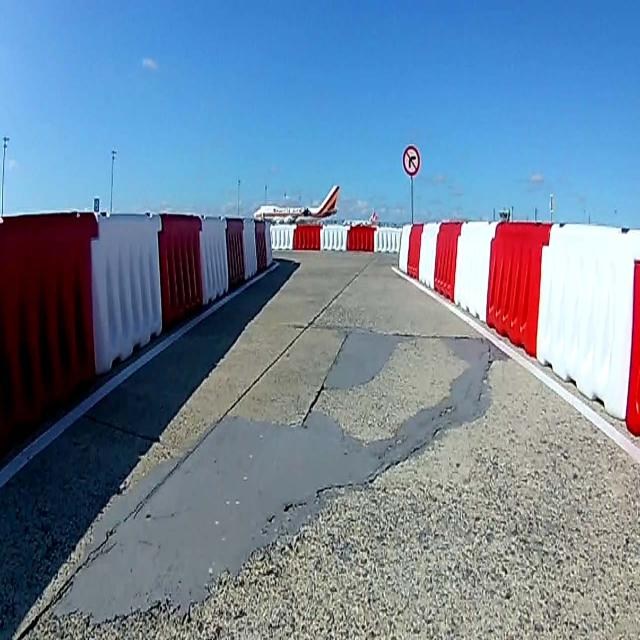sagadonulmez: (401, 142, 421, 177)
